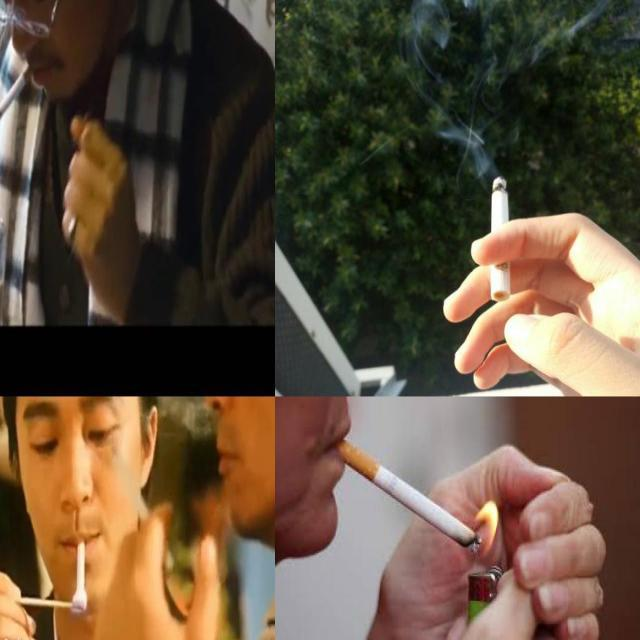smoking: (332, 439, 482, 552), (488, 176, 511, 303), (0, 61, 36, 130), (76, 539, 86, 594)
